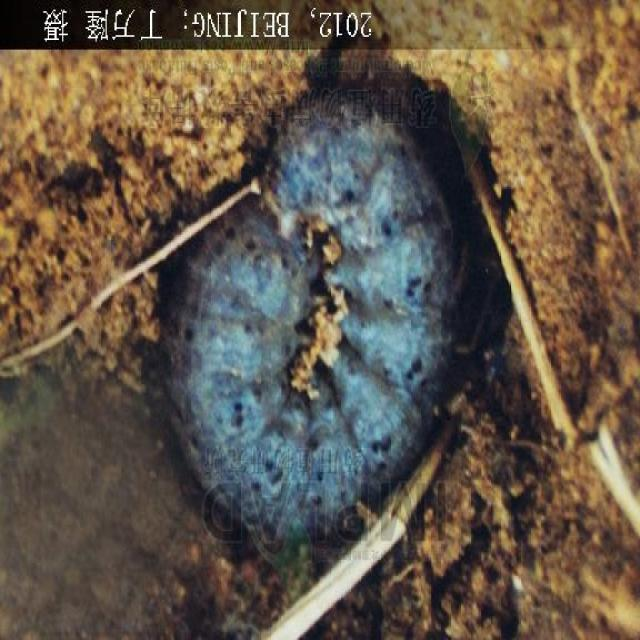black cutworm: (158, 83, 468, 562)
